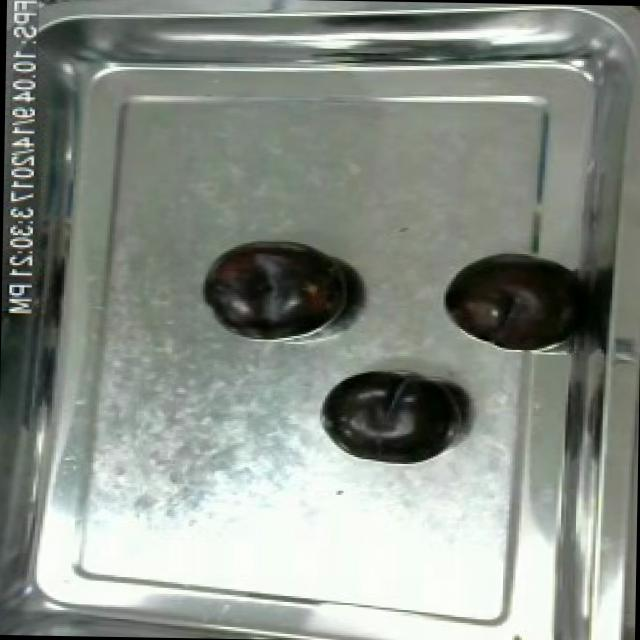Fruit: (196, 238, 352, 336), (317, 368, 461, 466), (436, 250, 572, 352)
